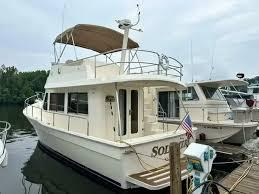Ship: (25, 25, 195, 191), (183, 80, 259, 144), (183, 157, 194, 192)
